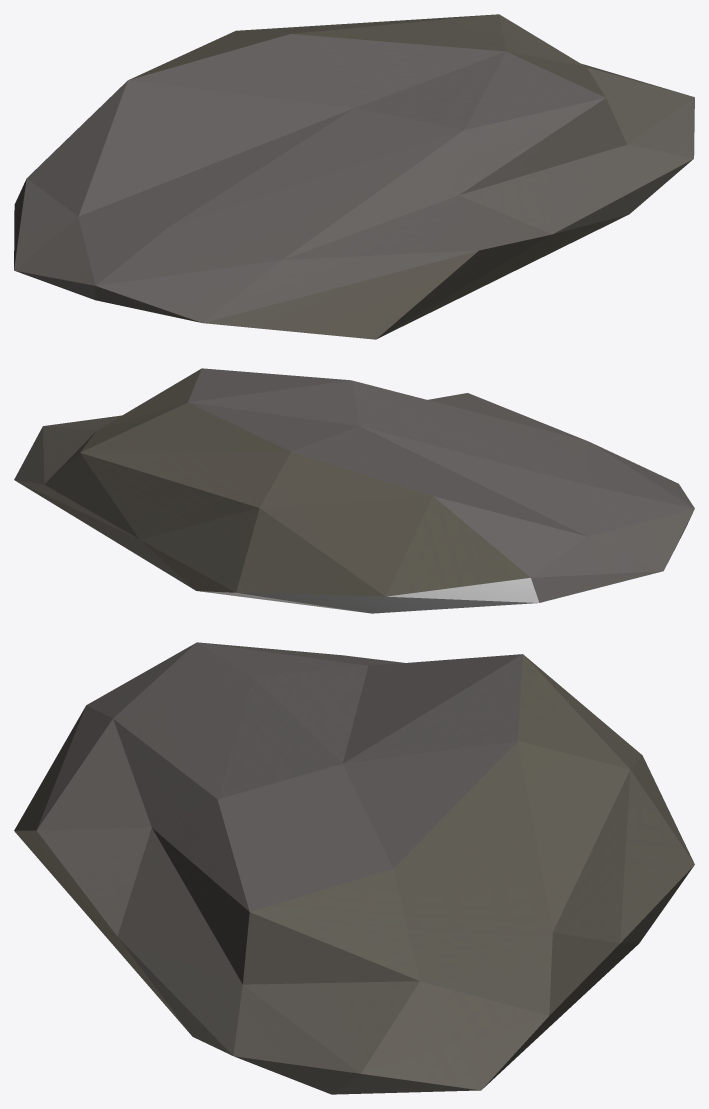
Rendered from rock7.fbx.
3 views of the same model, one above another, from view 1: azimuth 30°, elevation 25°; view 2: azimuth 150°, elevation 25°; view 3: azimuth 270°, elevation 25° (orthographic). The views are drawn at different scales.
Visible parts, largest first — view 1: ROCKS.007; view 2: ROCKS.007; view 3: ROCKS.007.
Boxes of the visible parts, x1,y1,x2,y2 form: ROCKS.007: [14, 14, 694, 339]; ROCKS.007: [14, 368, 694, 613]; ROCKS.007: [14, 642, 694, 1094].
Size of the model in its own units: 385 by 85.07 by 264.
